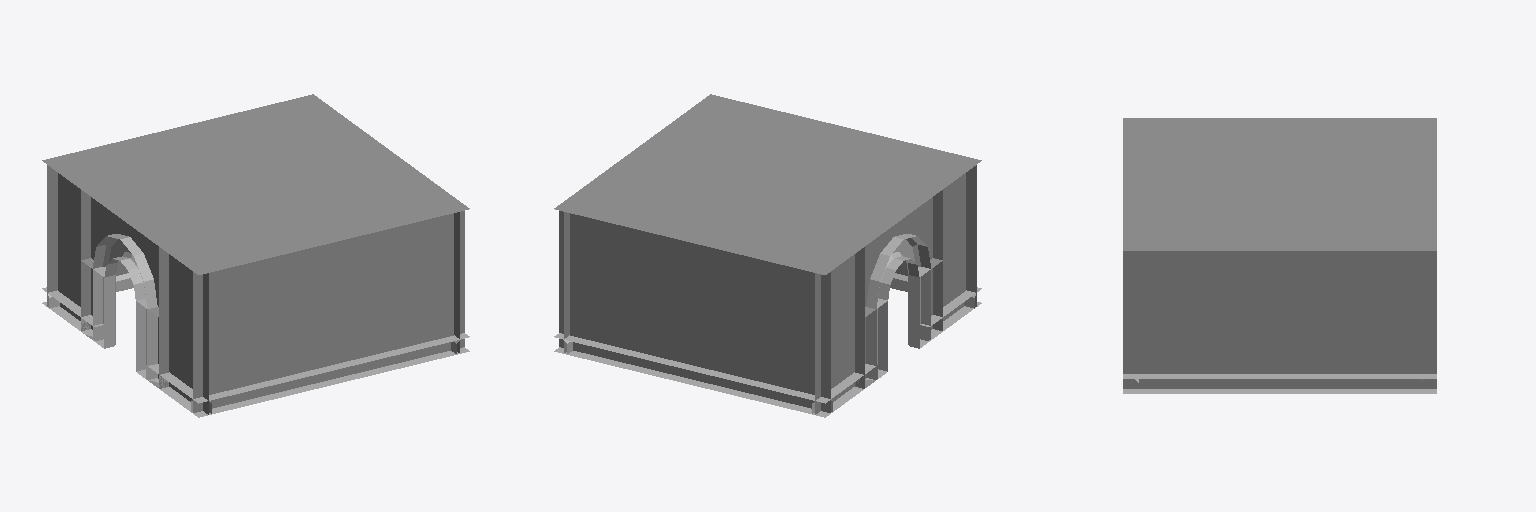
The model's file is staircaseTop.obj.
The picture shows the model from 3 angles: view 1: azimuth 30°, elevation 25°; view 2: azimuth 150°, elevation 25°; view 3: azimuth 270°, elevation 25°; orthographic projection.
Parts seen in each view (by area): view 1: struct_ceiling_10, struct_wall_main_half_62, struct_wall_big_door_upper_67, struct_wall_big_door_lower_66, struct_wall_main_half_64, struct_wall_base_half_72, struct_wall_main_half_65, struct_wall_main_half_63, struct_wall_main_half_61, struct_wall_base_half_70, struct_wall_base_half_69; view 2: struct_ceiling_10, struct_wall_main_half_63, struct_wall_big_door_upper_67, struct_wall_big_door_lower_66, struct_wall_main_half_65, struct_wall_base_half_71, struct_wall_main_half_64, struct_wall_main_half_62, struct_wall_main_half_61, struct_wall_base_half_69, struct_wall_base_half_70; view 3: struct_wall_main_half_61, struct_ceiling_10, struct_wall_base_half_74, struct_wall_big_door_upper_67.
Part boxes in pixels (x1,y1,x2,y2): struct_ceiling_10: (42,94,469,274); struct_wall_main_half_62: (193,211,464,412); struct_wall_big_door_upper_67: (81,190,168,317); struct_wall_big_door_lower_66: (81,258,168,388); struct_wall_main_half_64: (169,254,208,414); struct_wall_base_half_72: (191,335,469,417); struct_wall_main_half_65: (58,173,80,320); struct_wall_main_half_63: (47,165,128,306); struct_wall_main_half_61: (454,212,459,352); struct_wall_base_half_70: (160,372,211,417); struct_wall_base_half_69: (42,288,80,330); struct_ceiling_10: (554,94,981,274); struct_wall_main_half_63: (559,211,830,412); struct_wall_big_door_upper_67: (855,190,942,317); struct_wall_big_door_lower_66: (855,258,942,388); struct_wall_main_half_65: (815,254,854,414); struct_wall_base_half_71: (554,333,832,416); struct_wall_main_half_64: (943,173,965,320); struct_wall_main_half_62: (895,165,976,306); struct_wall_main_half_61: (564,212,569,352); struct_wall_base_half_69: (812,372,863,417); struct_wall_base_half_70: (943,287,981,330); struct_wall_main_half_61: (1123,251,1436,388); struct_ceiling_10: (1123,118,1436,250); struct_wall_base_half_74: (1123,374,1436,393); struct_wall_big_door_upper_67: (1201,118,1358,122).
Size of the model in its own units: 4 by 2 by 4.